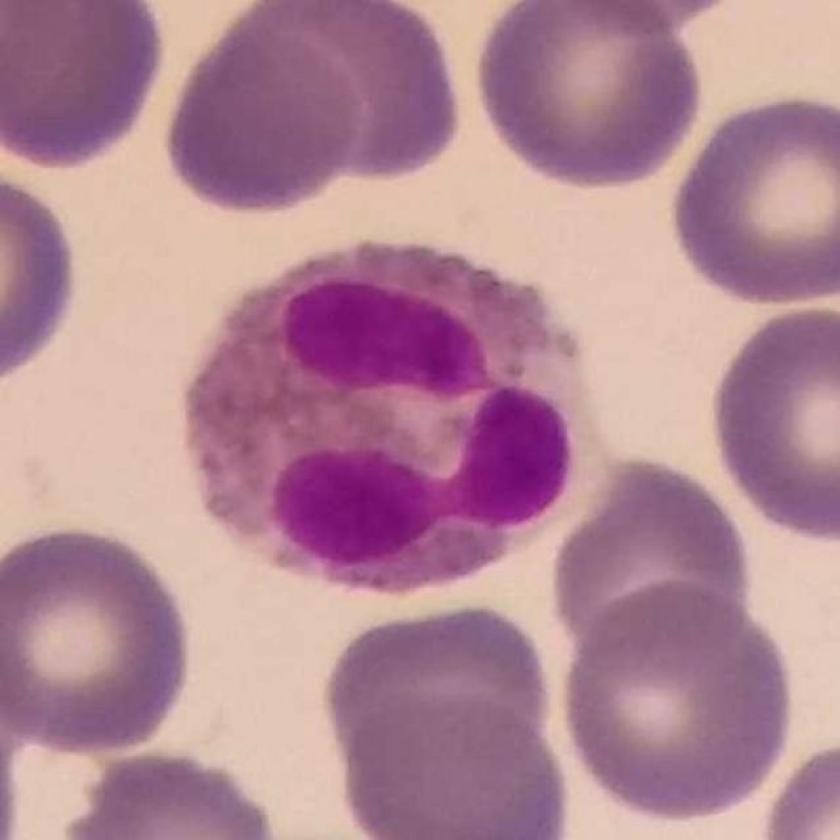eosinophil: (188, 240, 608, 605)
